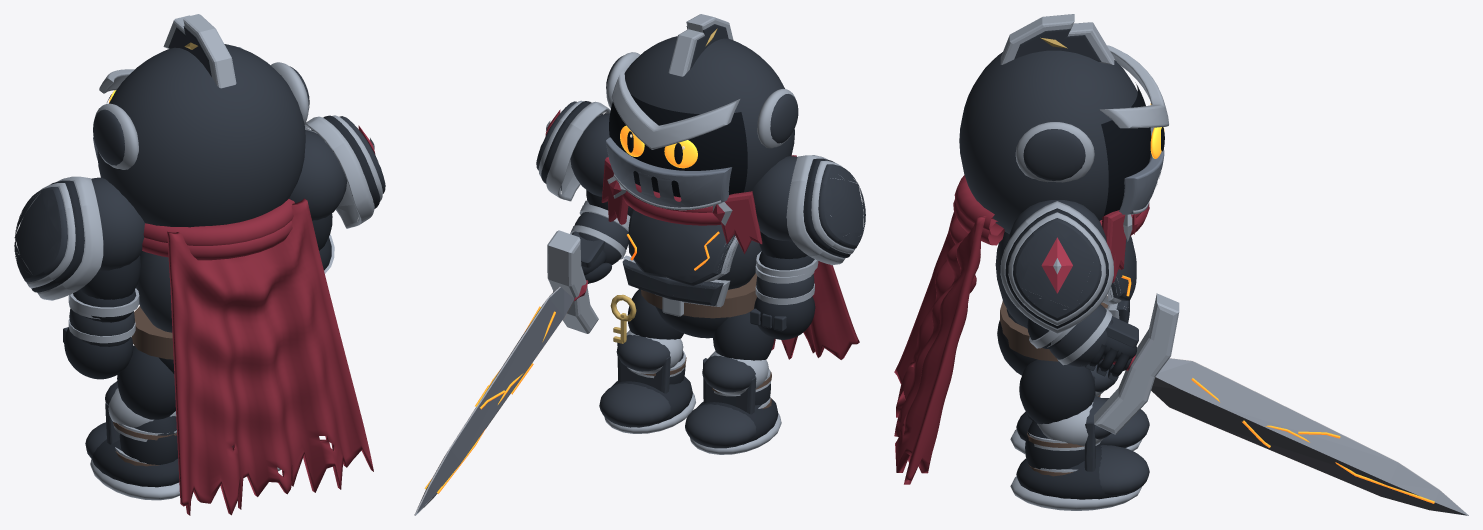
Rendered from ember-guardian.glb.
3 renders of one model, left to right at view 1: azimuth 30°, elevation 25°; view 2: azimuth 150°, elevation 25°; view 3: azimuth 270°, elevation 25°, orthographic. The views are drawn at different scales.
Parts seen in each view (by area): view 1: armor-batch (×24); view 2: armor-batch (×34), forged-blade, ember-eye; view 3: armor-batch (×24), forged-blade.
Boxes of the visible parts, x1,y1,x2,y2 form: armor-batch (×24): (14, 14, 385, 515); armor-batch (×34): (424, 14, 865, 493); forged-blade: (414, 287, 574, 515); ember-eye: (664, 140, 697, 168); armor-batch (×24): (894, 14, 1434, 510); forged-blade: (1151, 358, 1468, 515).
Size of the model in its own units: 1.39 by 1.73 by 1.96.
